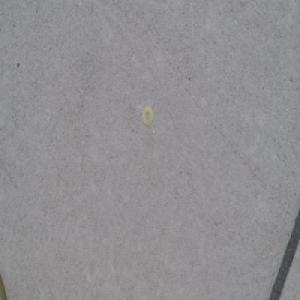Washer: (142, 105, 153, 126)
